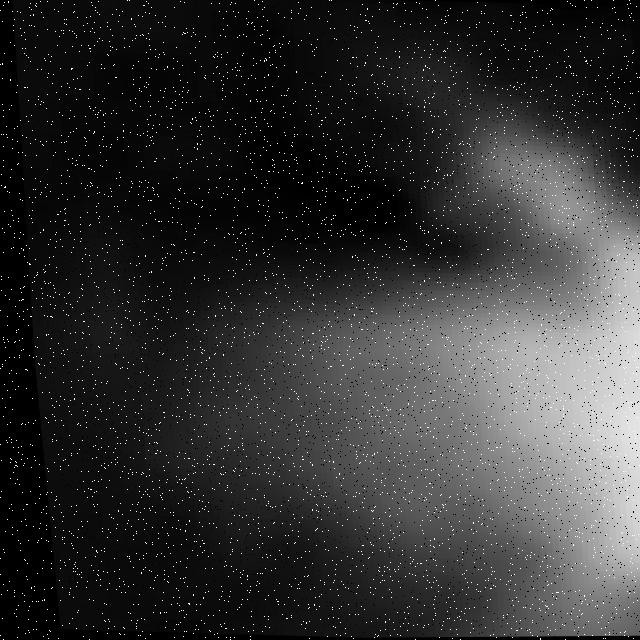person: (167, 100, 640, 640)
